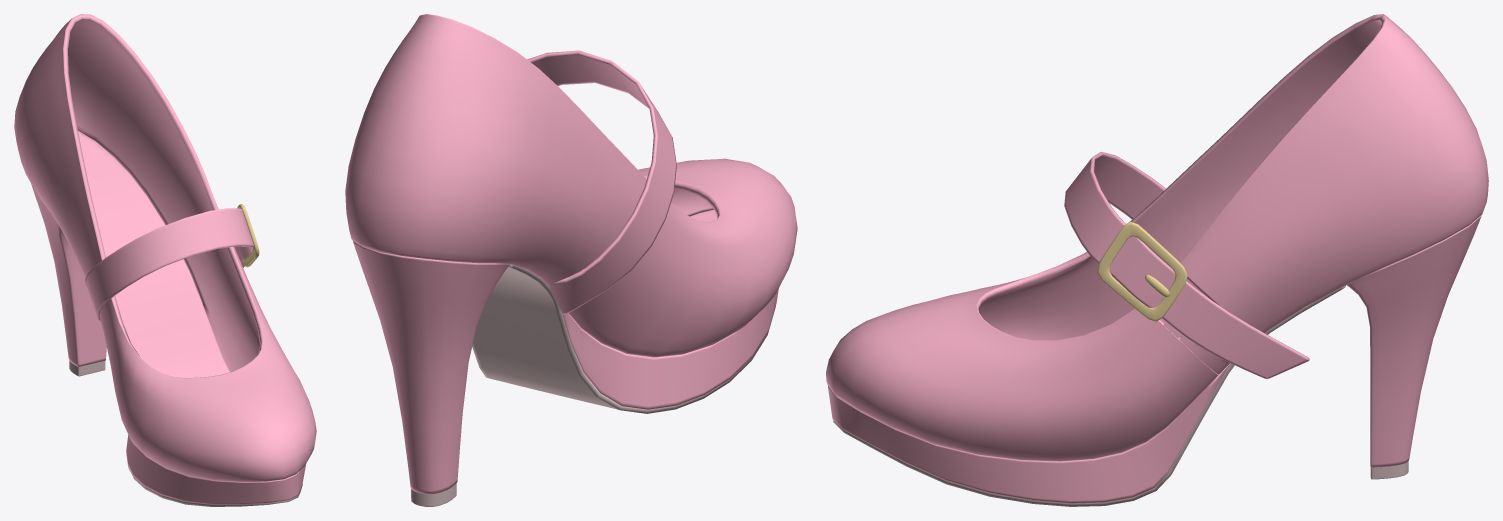
The model's file is mary-jane.glb.
3 views of the same model, side by side, from view 1: azimuth 30°, elevation 25°; view 2: azimuth 150°, elevation 25°; view 3: azimuth 270°, elevation 25° (orthographic). The views are drawn at different scales.
Parts seen in each view (by area): view 1: upper, source-heel, maryjane-strap, outsole, buckle; view 2: upper, source-heel, outsole, maryjane-strap; view 3: upper, source-heel, maryjane-strap, buckle, outsole.
Part boxes in pixels (box(x1,y1,x2,y2)): upper: box(14, 14, 316, 481); source-heel: box(31, 183, 305, 504); maryjane-strap: box(85, 208, 254, 321); outsole: box(69, 360, 302, 506); buckle: box(237, 204, 259, 267); upper: box(345, 14, 797, 357); source-heel: box(353, 241, 778, 494); outsole: box(411, 264, 775, 506); maryjane-strap: box(527, 50, 676, 314); upper: box(826, 14, 1488, 461); source-heel: box(828, 215, 1481, 503); maryjane-strap: box(1064, 151, 1309, 378); buckle: box(1097, 221, 1187, 321); outsole: box(833, 285, 1408, 506).
Size of the model in its own units: 1.12 by 2.25 by 3.
